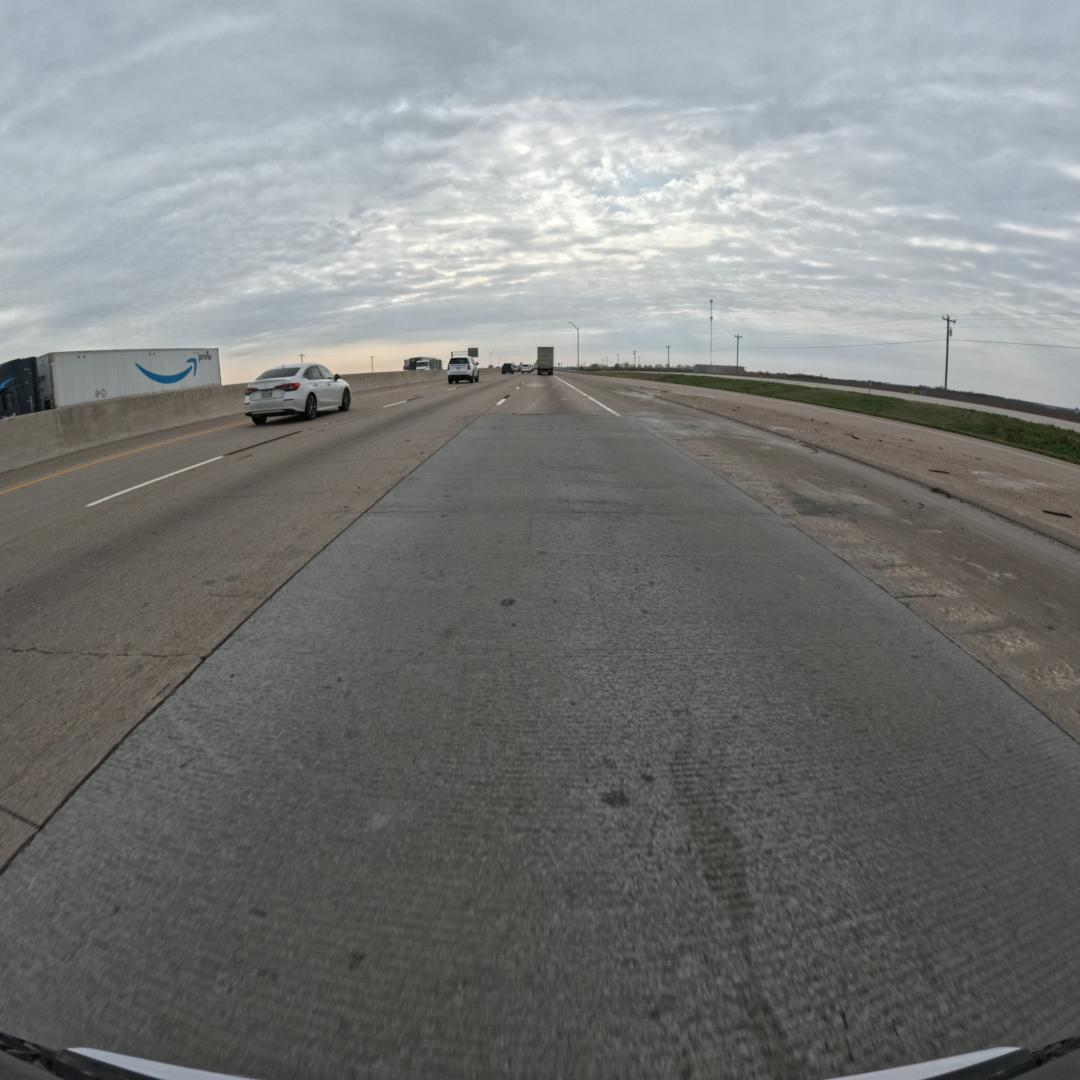lane0: (0, 376, 1080, 1077)
lane1: (0, 376, 527, 868)
